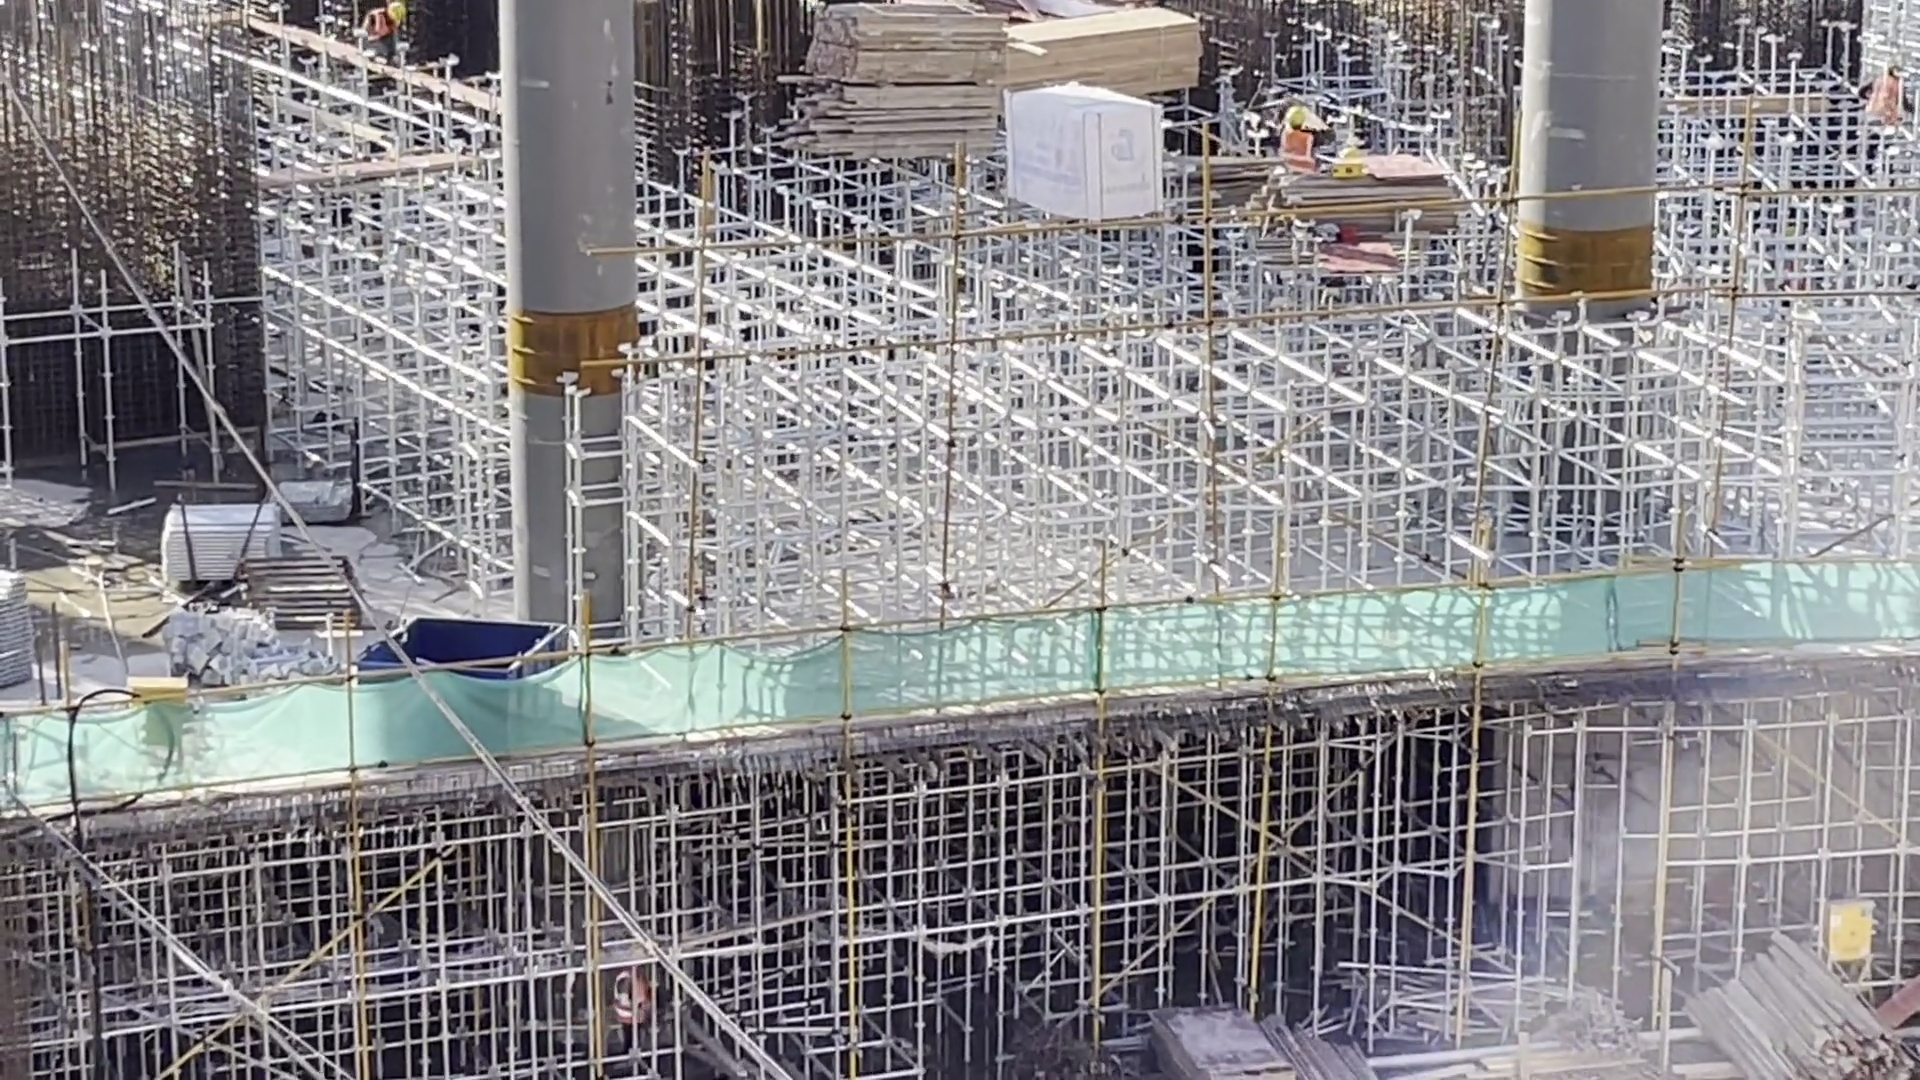board: (1270, 146, 1467, 248), (1140, 1004, 1294, 1080)
ebox: (1822, 893, 1876, 967), (117, 671, 192, 697)
helmet: (1286, 106, 1307, 127)
hopper: (355, 615, 570, 661)
person: (1276, 104, 1327, 178), (614, 972, 650, 1050)
scaffold: (166, 500, 244, 594)
vest: (1279, 130, 1319, 174)
wood: (1681, 927, 1917, 1080), (782, 1, 1007, 161), (1004, 6, 1201, 95)
